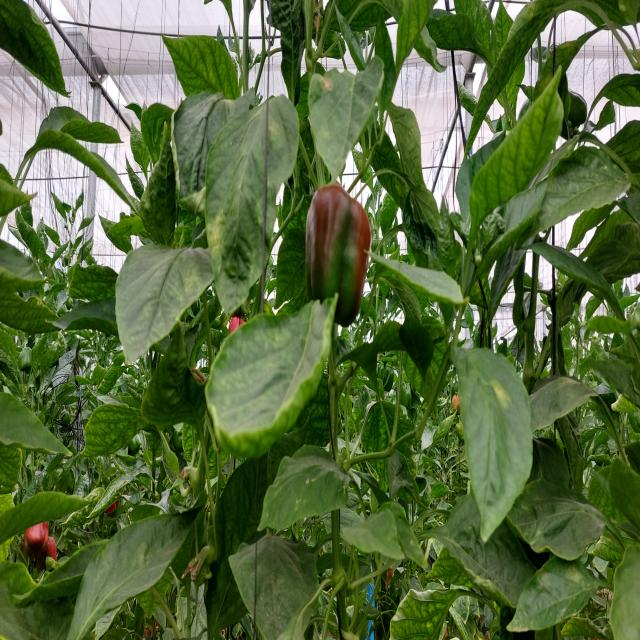BrownishRed--Can-be-Harvested: (305, 183, 371, 323)
